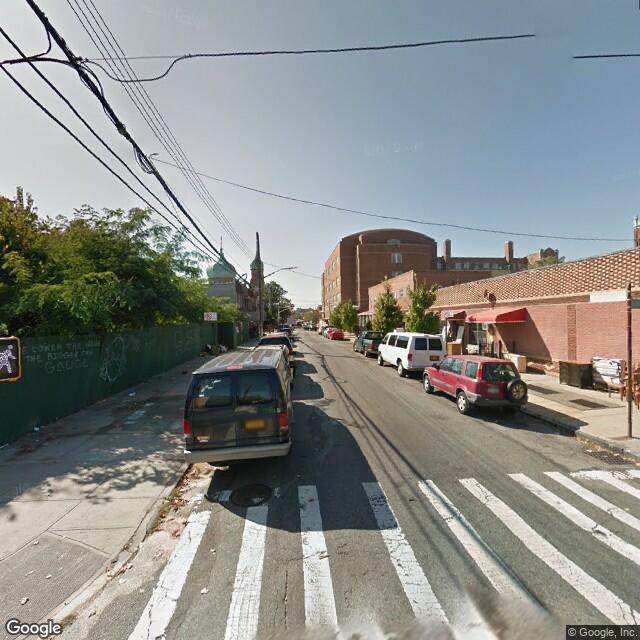litter: (582, 443, 628, 466)
